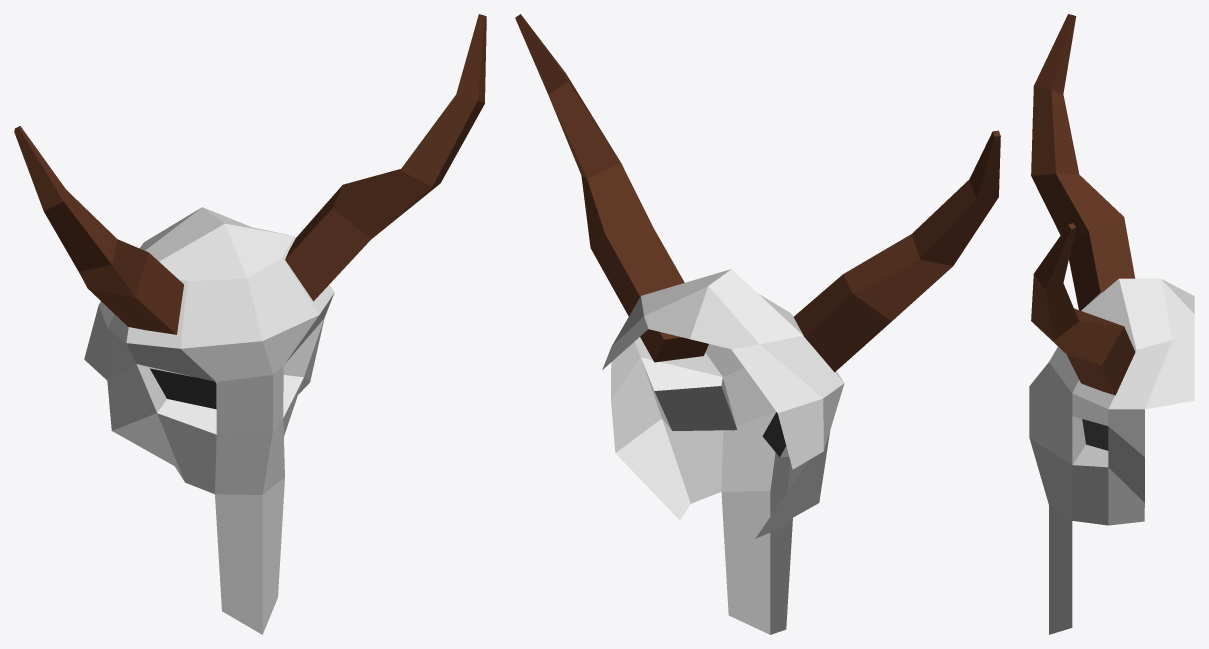
Rendered from GoatSkull.fbx.
3 renders of one model, left to right at view 1: azimuth 30°, elevation 25°; view 2: azimuth 150°, elevation 25°; view 3: azimuth 270°, elevation 25°, orthographic. The views are drawn at different scales.
Visible parts, largest first — view 1: Cube_Cube.001; view 2: Cube_Cube.001; view 3: Cube_Cube.001.
Part boxes in pixels (x1,y1,x2,y2): Cube_Cube.001: (14,14,486,634); Cube_Cube.001: (515,14,1000,634); Cube_Cube.001: (1029,14,1194,634).
Size of the model in its own units: 147 by 165 by 47.98.
